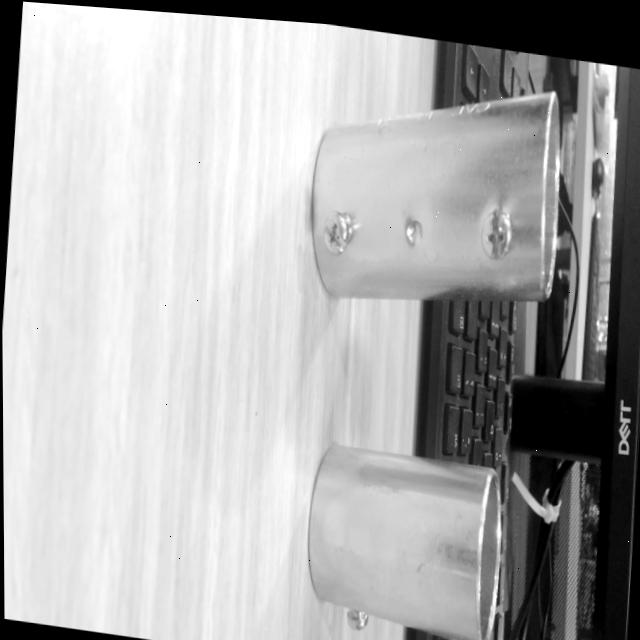Co_Lon: (310, 93, 558, 301)
Co_Nho: (294, 439, 517, 640)
